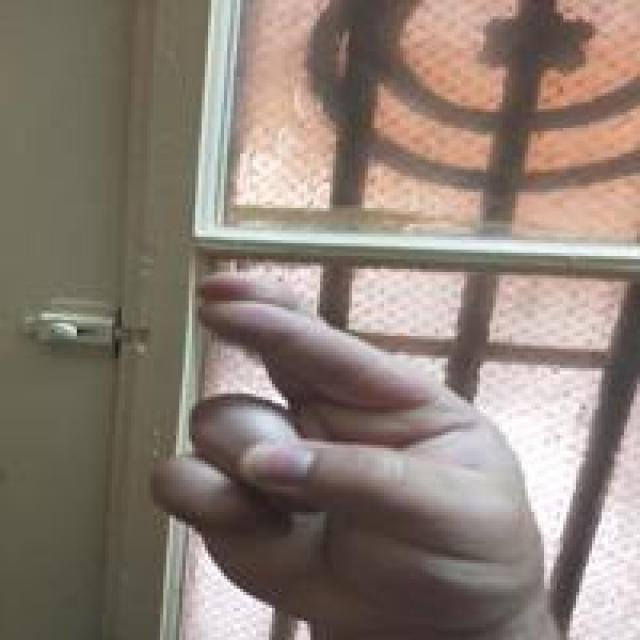R: (141, 264, 547, 638)
